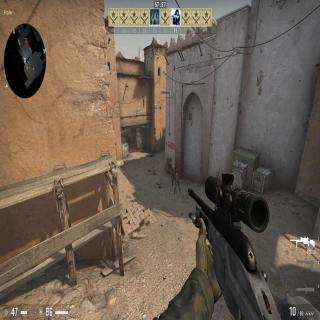T-Body: (174, 171, 180, 192), (170, 164, 174, 186)
T-Head: (176, 173, 178, 176), (172, 166, 174, 168)
